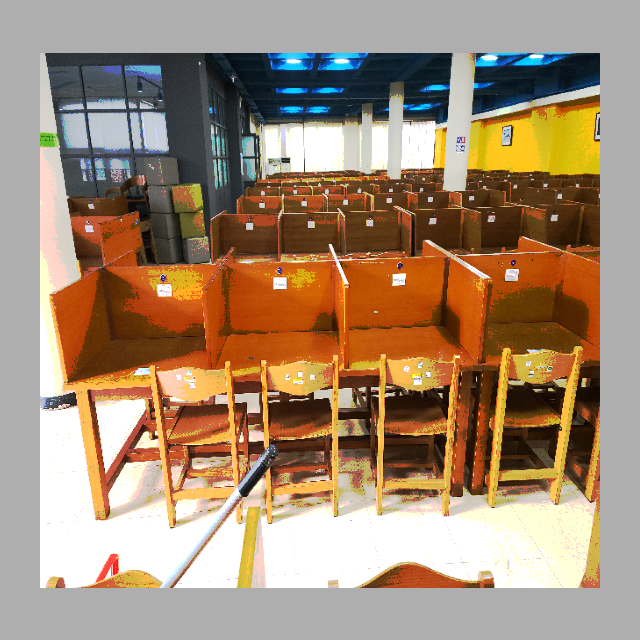empty: (56, 257, 206, 446), (350, 252, 484, 437), (214, 256, 341, 439)
